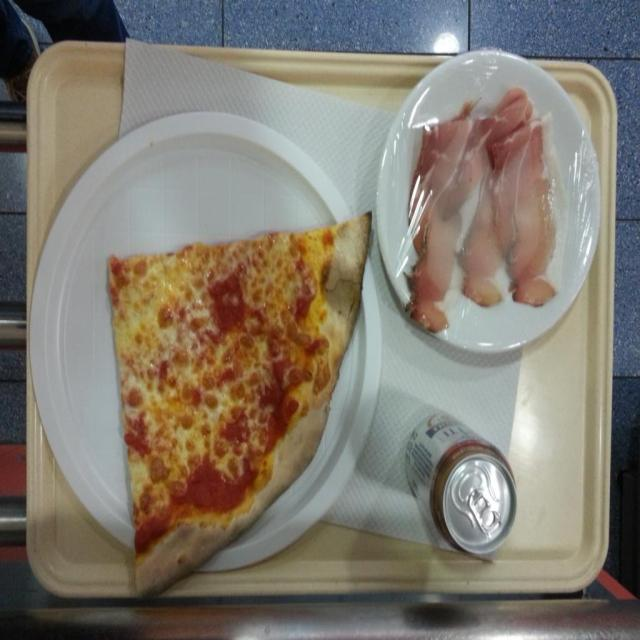plate: (29, 111, 377, 603), (376, 45, 598, 349)
